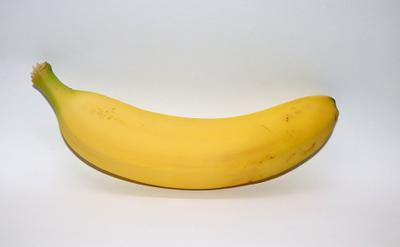banana: (0, 0, 400, 247)
